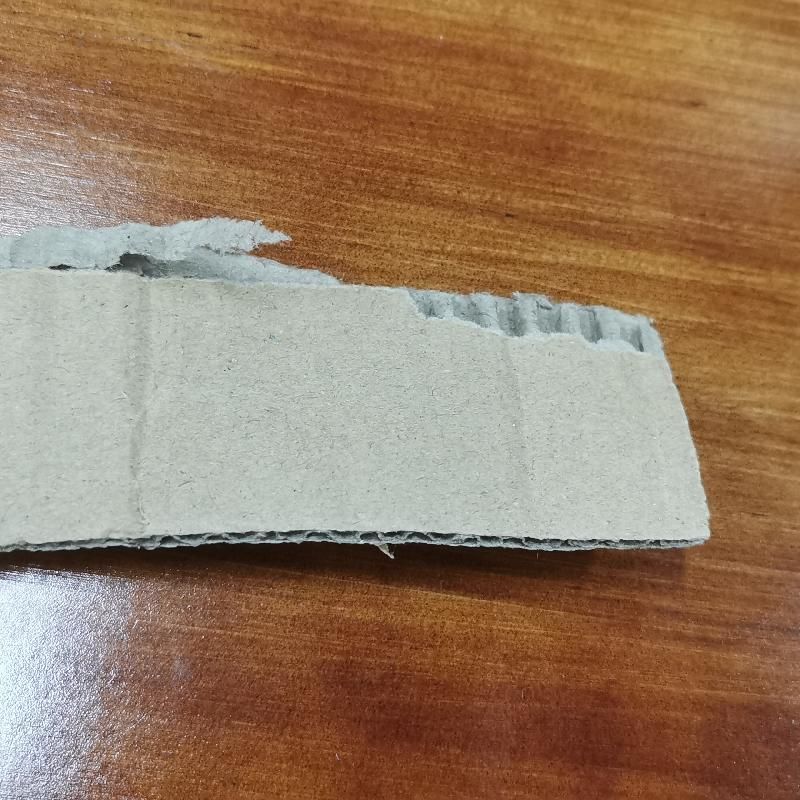boxes: (1, 213, 714, 564)
